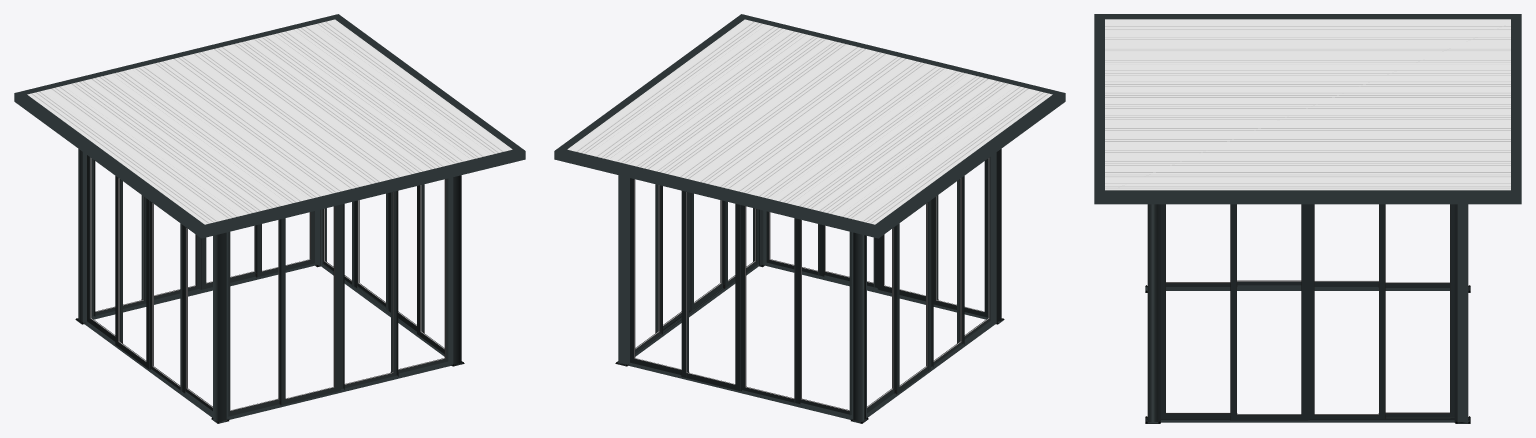
3 views of the same model, side by side, from view 1: azimuth 30°, elevation 25°; view 2: azimuth 150°, elevation 25°; view 3: azimuth 270°, elevation 25° (orthographic). The views are drawn at different scales.
Visible parts, largest first — view 1: priximbattable_net_pergolanda_354468_pergolanda_toit_plat_av, folha2_3, folha3_3, folha2_4, folha3_4, folha4_3, folha1_4, folha4, folha1_3, folha2_2, folha1_2, folha1 (+5 smaller); view 2: priximbattable_net_pergolanda_354468_pergolanda_toit_plat_av, folha2, folha3, folha2_4, folha1, folha3_4, folha1_3, folha4, folha4_4, folha2_2, folha2_3, folha4_2 (+5 smaller); view 3: priximbattable_net_pergolanda_354468_pergolanda_toit_plat_av, folha2_2, folha3_2, folha1_2, folha4_2, folha2_4, folha3_4.
Boxes of the visible parts, <box> form: priximbattable_net_pergolanda_354468_pergolanda_toit_plat_av: <box>14,14,525,423</box>; folha2_3: <box>279,204,340,405</box>; folha3_3: <box>341,190,398,389</box>; folha2_4: <box>115,176,151,369</box>; folha3_4: <box>149,200,185,393</box>; folha4_3: <box>390,178,448,374</box>; folha1_4: <box>87,155,122,343</box>; folha4: <box>92,159,146,316</box>; folha1_3: <box>228,219,279,416</box>; folha2_2: <box>388,184,424,332</box>; folha1_2: <box>417,185,444,353</box>; folha1: <box>255,211,314,277</box>; priximbattable_net_pergolanda_354468_pergolanda_toit_plat_av: <box>554,14,1065,423</box>; folha2: <box>681,190,742,391</box>; folha3: <box>740,205,800,404</box>; folha2_4: <box>894,200,930,394</box>; folha1: <box>630,178,689,374</box>; folha3_4: <box>931,176,964,367</box>; folha1_3: <box>933,159,987,317</box>; folha4: <box>800,219,851,416</box>; folha4_4: <box>957,157,990,343</box>; folha2_2: <box>689,192,722,310</box>; folha2_3: <box>877,195,938,301</box>; folha4_2: <box>635,185,662,353</box>; priximbattable_net_pergolanda_354468_pergolanda_toit_plat_av: <box>1094,14,1521,423</box>; folha2_2: <box>1230,204,1309,420</box>; folha3_2: <box>1309,204,1385,420</box>; folha1_2: <box>1161,204,1237,418</box>; folha4_2: <box>1378,204,1454,418</box>; folha2_4: <box>1314,280,1378,286</box>; folha3_4: <box>1237,280,1301,286</box>.
Size of the model in its own units: 400 by 259 by 400.
1 material, 1 textured.
